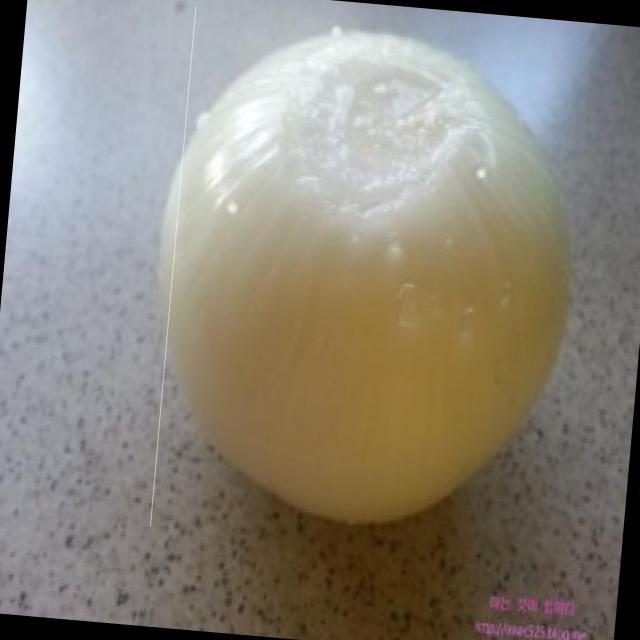Onion: (150, 6, 592, 562)
